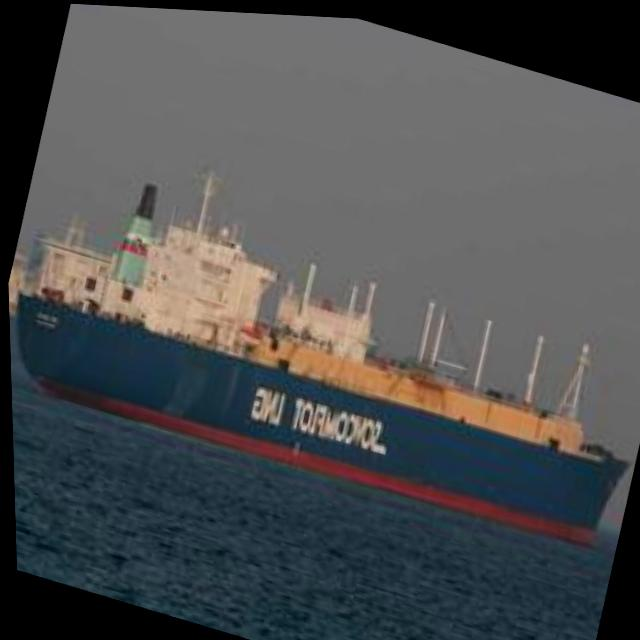ship2: (13, 172, 627, 541)
